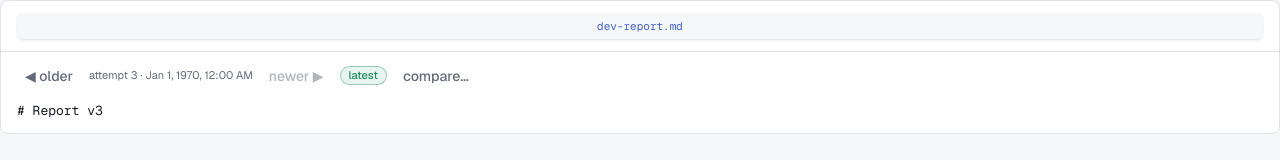
ArtifactTabs — version switcher › steps to an older version and badges it not latest
Click the button "◀ older". click: [49, 76]
box: top-left (17, 64), bottom-right (81, 88)
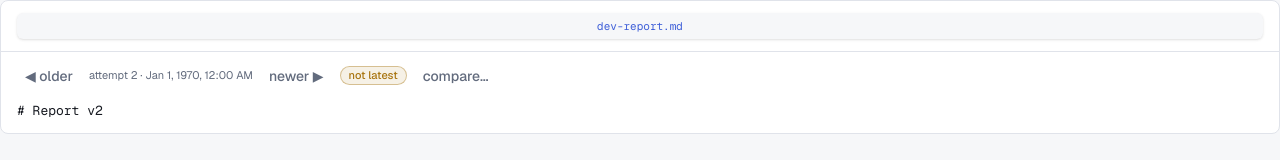
Result: the text "# Report v2" is shown at top-left (17, 102), bottom-right (103, 118)
Result: the text "not latest" is shown at top-left (340, 66), bottom-right (407, 85)
